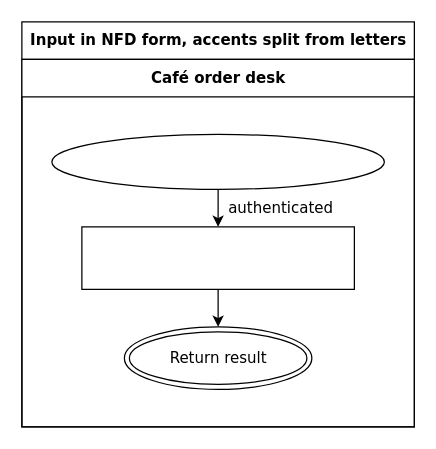
The diagram is 436 pixels wide and 449 high, and some of its shapes have lost their labels. Each missing label, with the box of its shape:
Check stock and reserve items: (81, 226, 354, 289)
Take the naïve user request: (51, 133, 384, 189)
